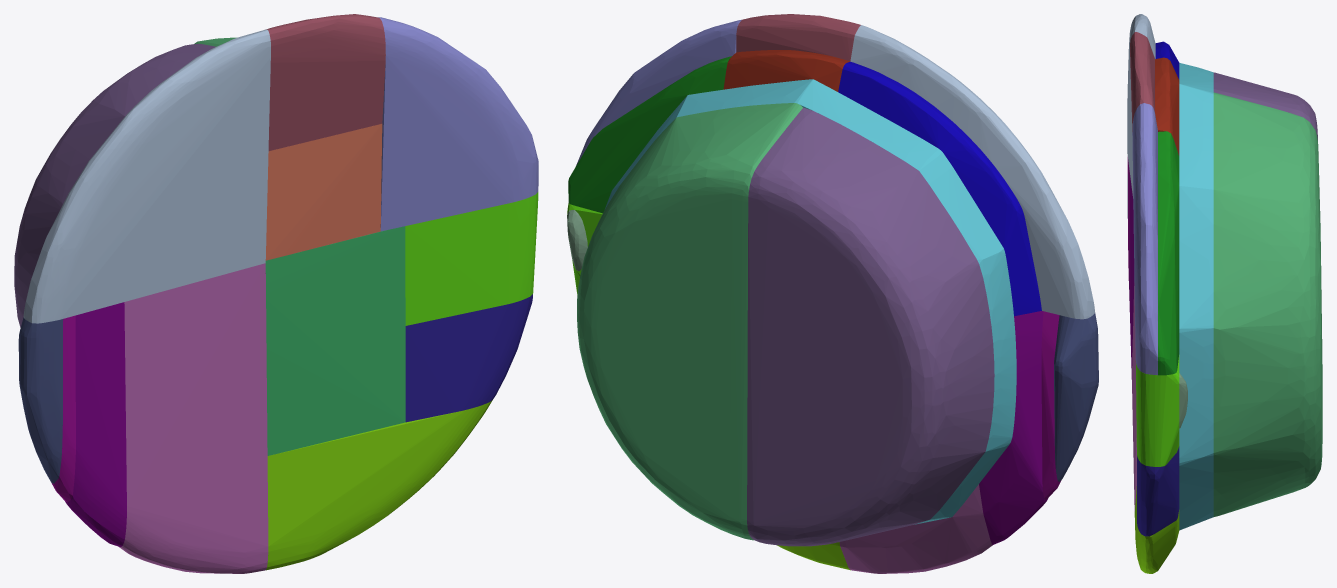
The model's file is coacd_collision.obj.
3 renders of one model, left to right at view 1: azimuth 30°, elevation 25°; view 2: azimuth 150°, elevation 25°; view 3: azimuth 270°, elevation 25°, orthographic. The views are drawn at different scales.
Visible parts, largest first — view 1: geometry_6, geometry_7, geometry_10, geometry_12, geometry_4, geometry_13, geometry_17, geometry_9, geometry_11, geometry_18, geometry_1, geometry_16 (+1 smaller); view 2: geometry_1, geometry_3, geometry_2, geometry_6, geometry_5, geometry_11, geometry_8, geometry_7, geometry_16, geometry_12, geometry_13, geometry_15 (+4 smaller); view 3: geometry_3, geometry_2, geometry_12, geometry_8, geometry_17, geometry_18, geometry_1, geometry_15, geometry_13, geometry_4, geometry_6, geometry_11 (+3 smaller).
Boxes of the visible parts, <box> form: geometry_6: <box>23,29,270,323</box>; geometry_7: <box>118,263,268,573</box>; geometry_10: <box>265,226,405,455</box>; geometry_12: <box>378,17,538,231</box>; geometry_4: <box>266,400,492,570</box>; geometry_13: <box>266,14,385,150</box>; geometry_17: <box>405,192,538,325</box>; geometry_9: <box>265,124,382,260</box>; geometry_11: <box>65,302,126,546</box>; geometry_18: <box>405,294,532,422</box>; geometry_1: <box>14,44,215,327</box>; geometry_16: <box>18,317,63,483</box>; geometry_1: <box>747,107,994,546</box>; geometry_3: <box>577,103,802,540</box>; geometry_2: <box>605,79,1016,524</box>; geometry_6: <box>850,25,1094,319</box>; geometry_5: <box>838,61,1041,316</box>; geometry_11: <box>979,311,1048,544</box>; geometry_8: <box>568,56,731,213</box>; geometry_7: <box>839,484,992,573</box>; geometry_16: <box>1054,313,1098,481</box>; geometry_12: <box>576,19,741,165</box>; geometry_13: <box>736,14,860,60</box>; geometry_15: <box>723,50,849,91</box>; geometry_3: <box>1213,92,1322,516</box>; geometry_2: <box>1179,63,1213,530</box>; geometry_12: <box>1132,103,1157,375</box>; geometry_8: <box>1158,131,1179,375</box>; geometry_17: <box>1135,355,1179,466</box>; geometry_18: <box>1137,446,1179,536</box>; geometry_1: <box>1213,72,1317,140</box>; geometry_15: <box>1155,57,1179,155</box>; geometry_13: <box>1130,32,1154,131</box>; geometry_4: <box>1134,486,1179,573</box>; geometry_6: <box>1127,14,1155,198</box>; geometry_11: <box>1129,174,1134,379</box>.
Size of the model in its own units: 195 by 194 by 67.44.
